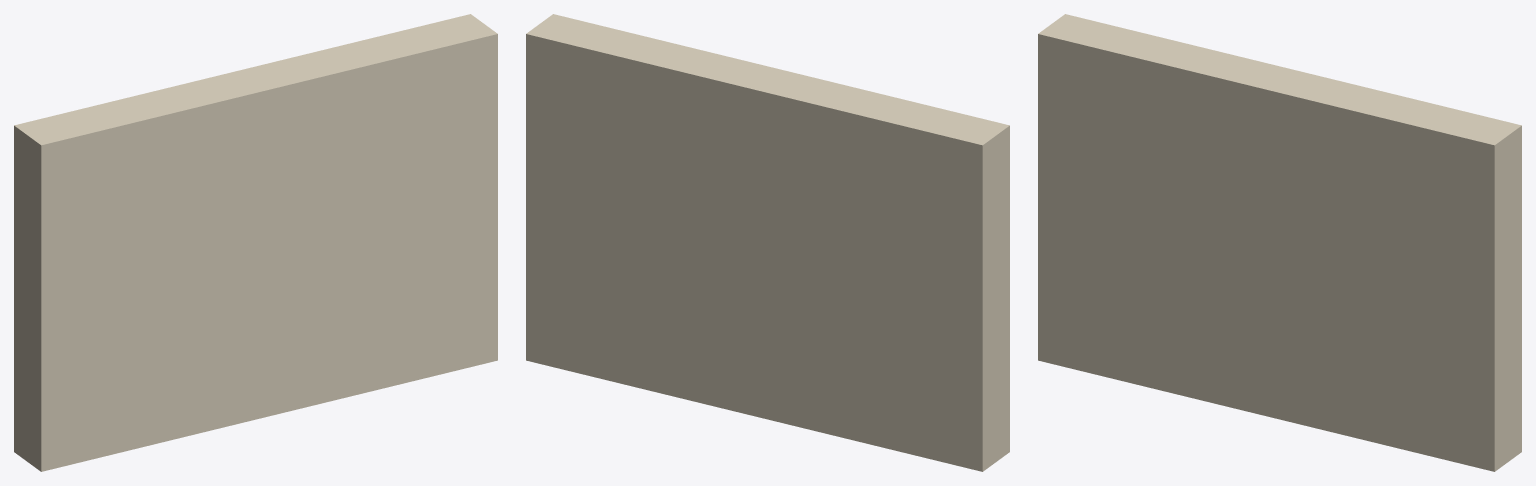
The picture shows the model from 3 angles, left to right: view 1: azimuth 30°, elevation 25°; view 2: azimuth 150°, elevation 25°; view 3: azimuth 330°, elevation 25°; orthographic projection.
Parts seen in each view (by area): view 1: B-FF-WINDOW-003-SILL; view 2: B-FF-WINDOW-003-SILL; view 3: B-FF-WINDOW-003-SILL.
Boxes of the visible parts, bbox=[...] form: B-FF-WINDOW-003-SILL: bbox=[14, 14, 497, 471]; B-FF-WINDOW-003-SILL: bbox=[526, 14, 1009, 471]; B-FF-WINDOW-003-SILL: bbox=[1038, 14, 1521, 471].
Bounding box in the file's own units: 1.2 × 0.82 × 0.124.
